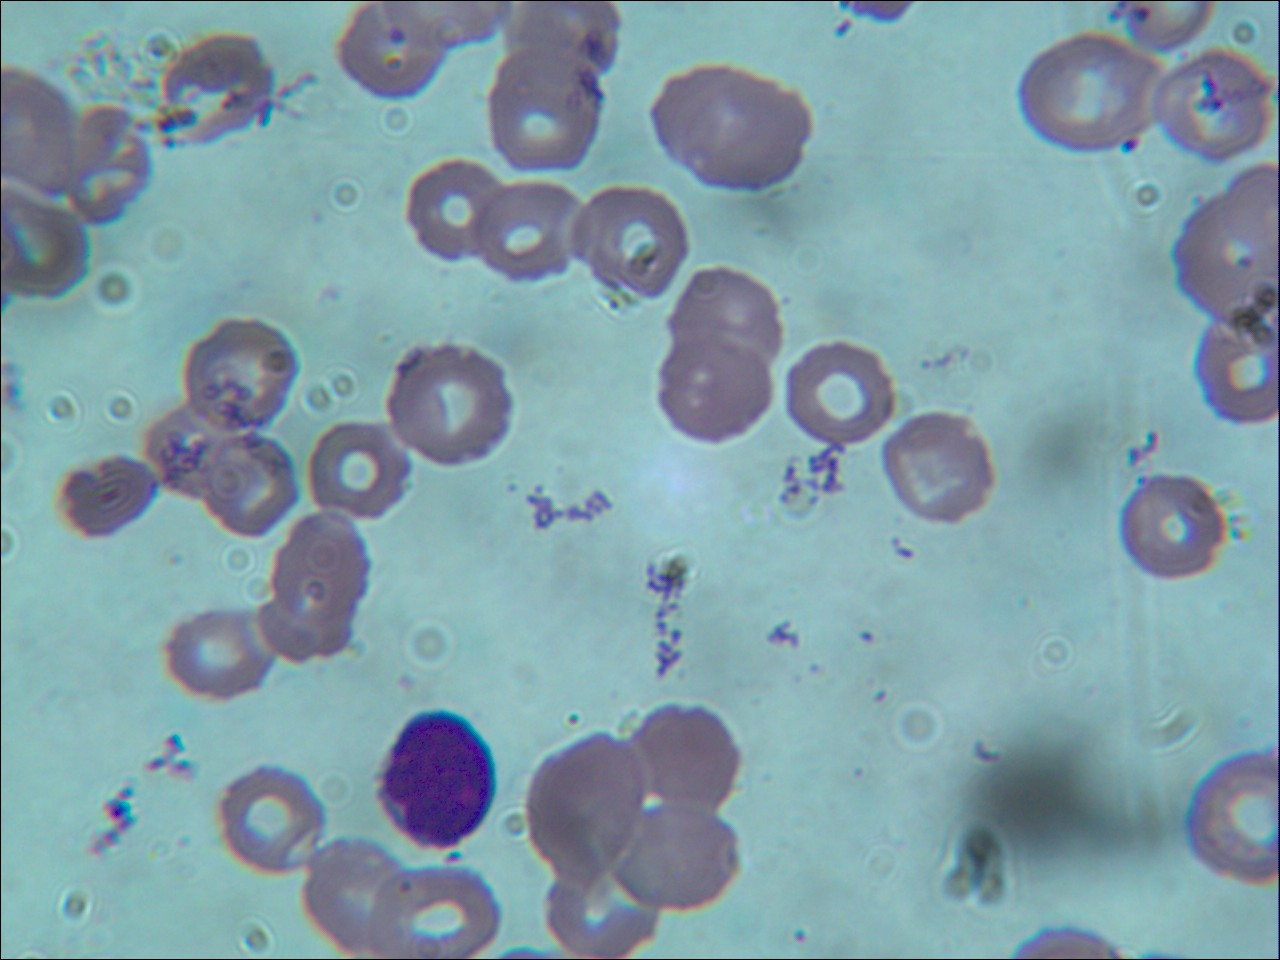Eritrosit: (523, 734, 655, 880), (1015, 39, 1156, 155), (389, 346, 518, 469), (564, 186, 693, 305), (150, 27, 280, 144), (177, 314, 302, 433), (1167, 194, 1280, 324), (483, 52, 600, 175), (1149, 50, 1274, 162), (1180, 755, 1280, 894), (611, 809, 746, 911), (200, 765, 324, 872), (634, 699, 748, 815), (368, 864, 503, 960), (883, 412, 1000, 522), (333, 1, 447, 111), (302, 840, 408, 959), (655, 339, 774, 442), (1115, 472, 1225, 581), (477, 178, 583, 290), (784, 340, 895, 446), (61, 103, 152, 230), (537, 868, 662, 960), (1183, 314, 1280, 430), (674, 265, 781, 367), (302, 421, 409, 521), (199, 434, 298, 542), (498, 1, 623, 87), (159, 608, 273, 702), (1, 186, 90, 306), (48, 452, 161, 546), (403, 158, 499, 267), (140, 406, 243, 502), (275, 512, 368, 618), (1, 58, 68, 194), (255, 587, 356, 665)
Limfoblast: (370, 708, 500, 855)
Platelet: (652, 64, 811, 199), (1115, 124, 1145, 165), (381, 25, 414, 61), (865, 684, 892, 712), (1125, 3, 1153, 30), (786, 925, 812, 953), (556, 711, 589, 733), (853, 625, 877, 652), (834, 15, 856, 43), (1234, 247, 1256, 275), (500, 475, 524, 500), (802, 656, 827, 680), (845, 767, 871, 787), (530, 480, 552, 499)
